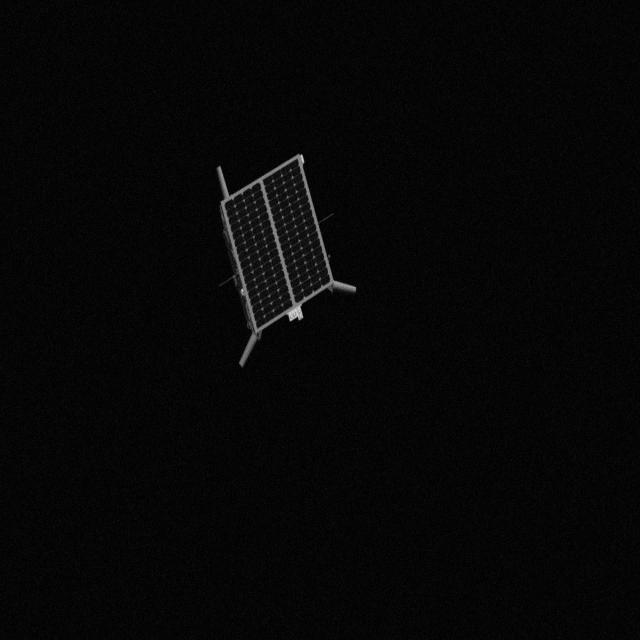medium_debris: (202, 140, 368, 372)
